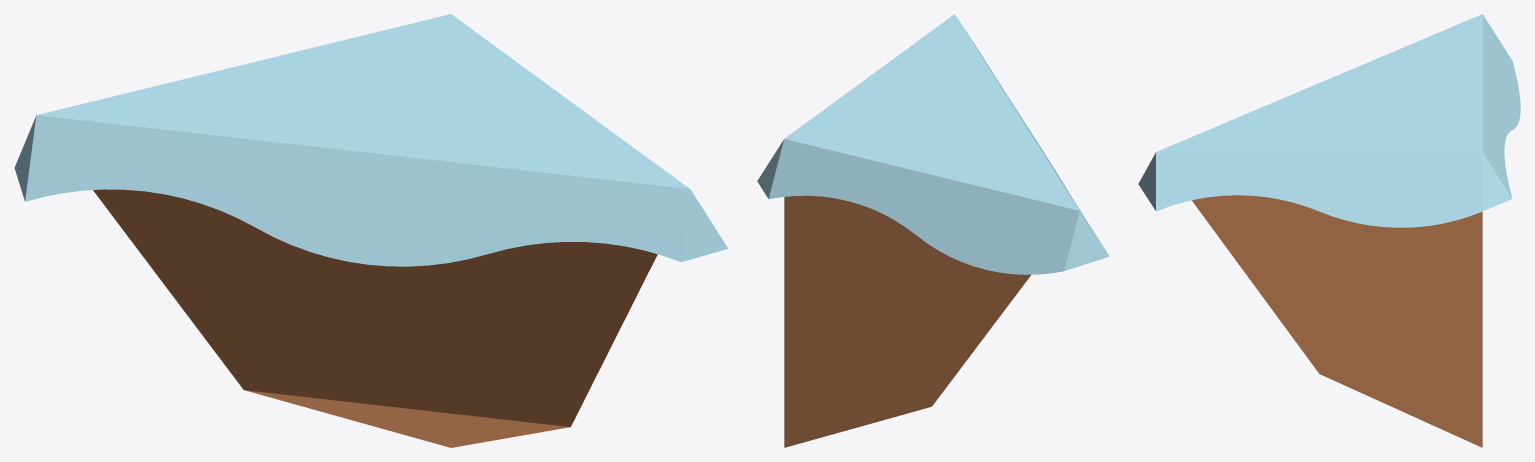
The model's file is blockSnowCliffCorner.fbx.
3 renders of one model, left to right at view 1: azimuth 30°, elevation 25°; view 2: azimuth 150°, elevation 25°; view 3: azimuth 270°, elevation 25°, orthographic. The views are drawn at different scales.
Visible parts, largest first — view 1: blockSnowCliffCorner; view 2: blockSnowCliffCorner; view 3: blockSnowCliffCorner.
Part boxes in pixels (x1,y1,x2,y2): blockSnowCliffCorner: (14,14,728,447); blockSnowCliffCorner: (757,14,1109,447); blockSnowCliffCorner: (1138,14,1520,447).
Bounding box in the file's own units: 11.81 × 10 × 11.71.
